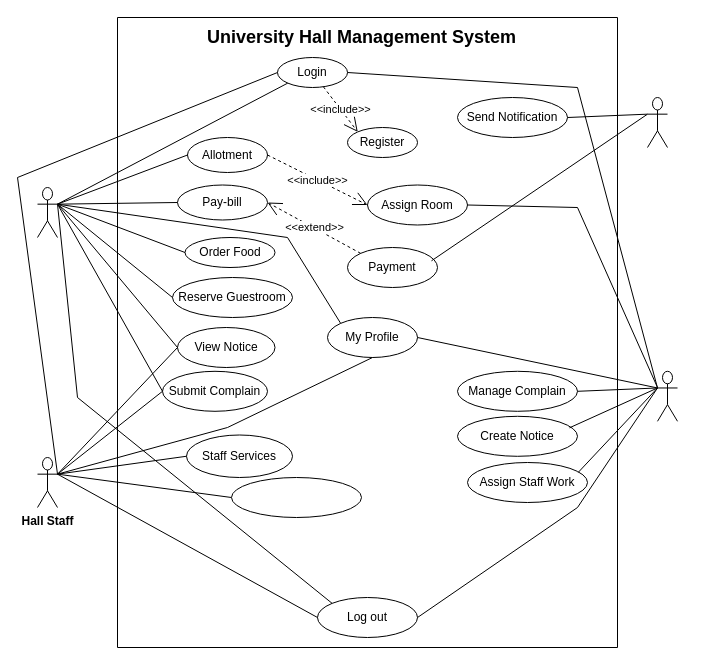
The diagram is 724 pixels wide and 665 high, and some of its shapes have lost their labels. The shapes that lost their labels are listed below. From the top down, each one's centre as x and y in pixels, then its label:
At [657,122]: "System".
At [47,212]: "Student".
At [667,395]: "Hall Authority".
At [296,497]: "Done Assigned Work".
